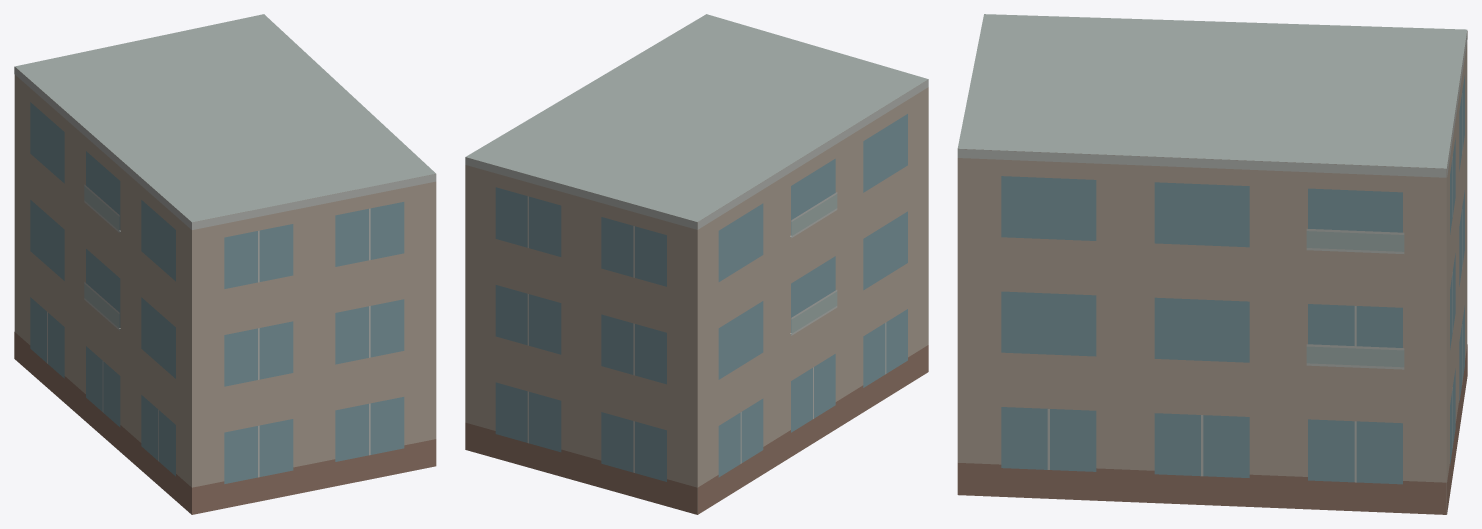
Rendered from survey-upis-32793174.glb.
3 renders of one model, left to right at view 1: azimuth 30°, elevation 25°; view 2: azimuth 150°, elevation 25°; view 3: azimuth 270°, elevation 25°, orthographic. The views are drawn at different scales.
Visible parts, largest first — view 1: survey-upis-32793174.tmp; view 2: survey-upis-32793174.tmp; view 3: survey-upis-32793174.tmp.
Part boxes in pixels (x1=…): survey-upis-32793174.tmp: x1=14, y1=14, x2=436, y2=514; survey-upis-32793174.tmp: x1=465, y1=14, x2=928, y2=514; survey-upis-32793174.tmp: x1=957, y1=14, x2=1467, y2=514.
Size of the model in its own units: 8.77 by 9.15 by 12.22.
